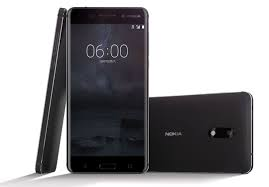nokia: (66, 7, 150, 175), (148, 91, 252, 174)
